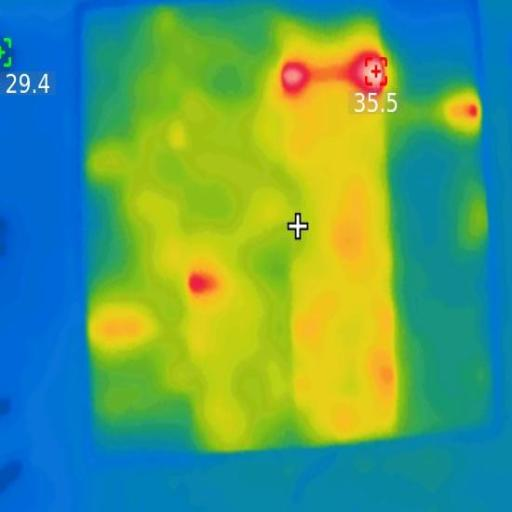hotspot: (347, 49, 389, 95), (281, 63, 318, 95), (187, 270, 217, 294), (468, 102, 480, 125)
